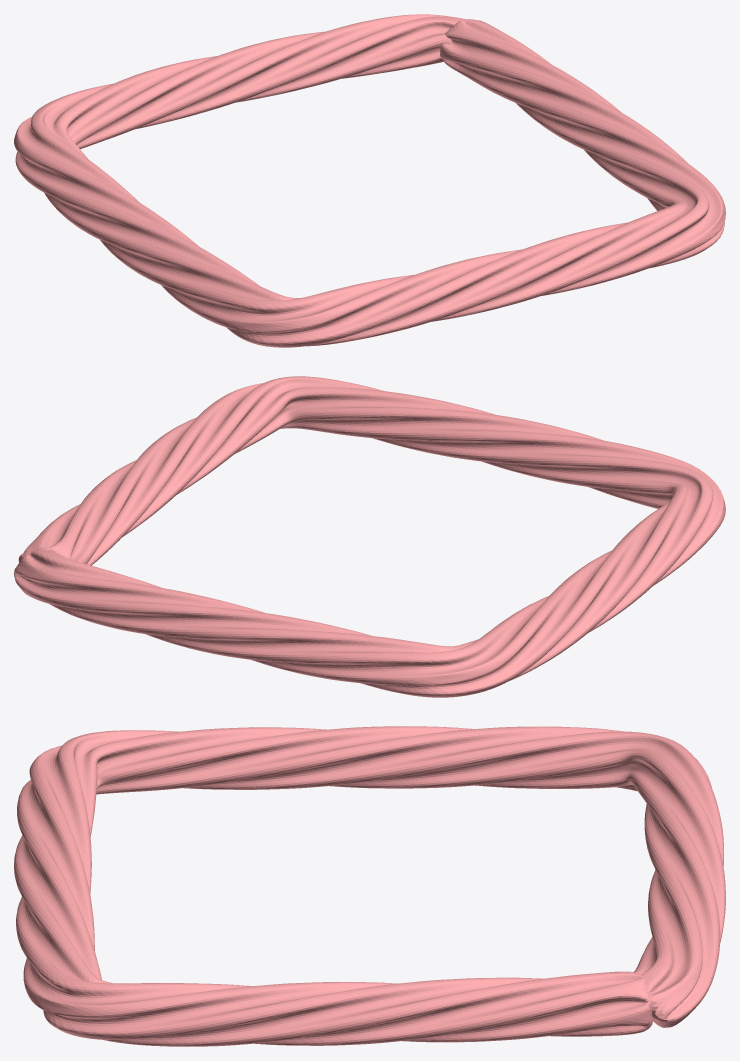
File: CakeFillGlaze.glb
3 views of the same model, one above another, from view 1: azimuth 30°, elevation 25°; view 2: azimuth 150°, elevation 25°; view 3: azimuth 270°, elevation 25° (orthographic). The views are drawn at different scales.
Visible parts, largest first — view 1: Cylinder.011; view 2: Cylinder.011; view 3: Cylinder.011.
Boxes of the visible parts, bbox=[...] form: Cylinder.011: bbox=[14, 14, 725, 347]; Cylinder.011: bbox=[14, 376, 725, 697]; Cylinder.011: bbox=[14, 726, 725, 1046].
Bounding box in the file's own units: 1.96 × 0.1996 × 2.02.
